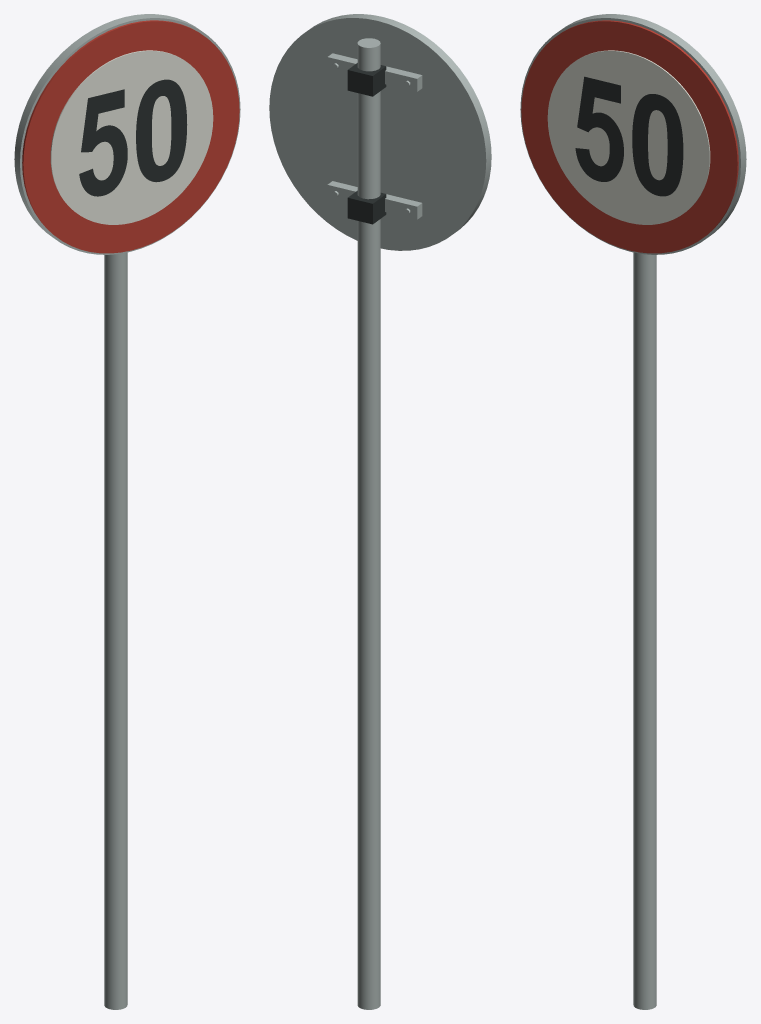
Rendered from speed-approved-v2.glb.
3 renders of one model, left to right at view 1: azimuth 30°, elevation 25°; view 2: azimuth 150°, elevation 25°; view 3: azimuth 330°, elevation 25°, orthographic.
Visible parts, largest first — view 1: 원형 제한속도 표지; view 2: 원형 제한속도 표지; view 3: 원형 제한속도 표지.
Boxes of the visible parts, box(x1,y1,x2,y2) form: 원형 제한속도 표지: box(14, 14, 240, 1009); 원형 제한속도 표지: box(269, 14, 491, 1009); 원형 제한속도 표지: box(520, 14, 746, 1009).
Bounding box in the file's own units: 0.604 × 2.6 × 0.1207.
